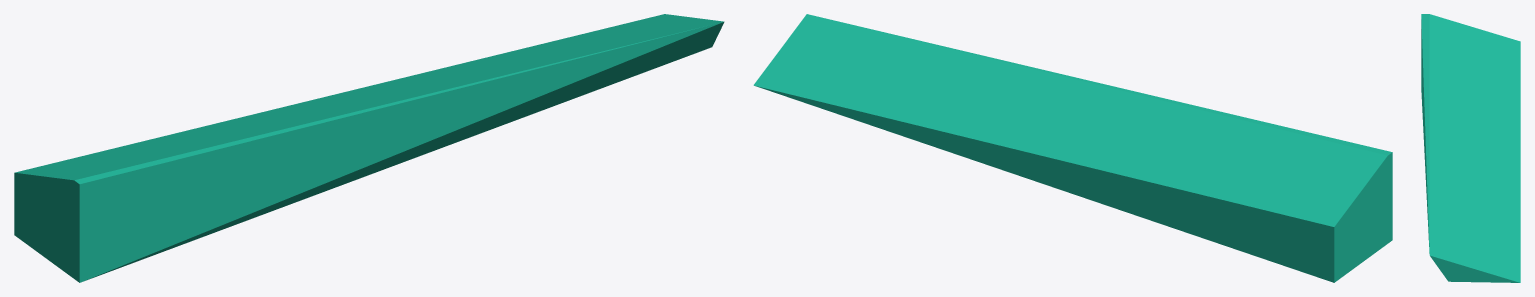
Rendered from simple_example_hole_part_33.obj.
3 views of the same model, side by side, from view 1: azimuth 30°, elevation 25°; view 2: azimuth 150°, elevation 25°; view 3: azimuth 270°, elevation 25° (orthographic). The views are drawn at different scales.
Size of the model in its own units: 39.81 by 5.77 by 6.92.
